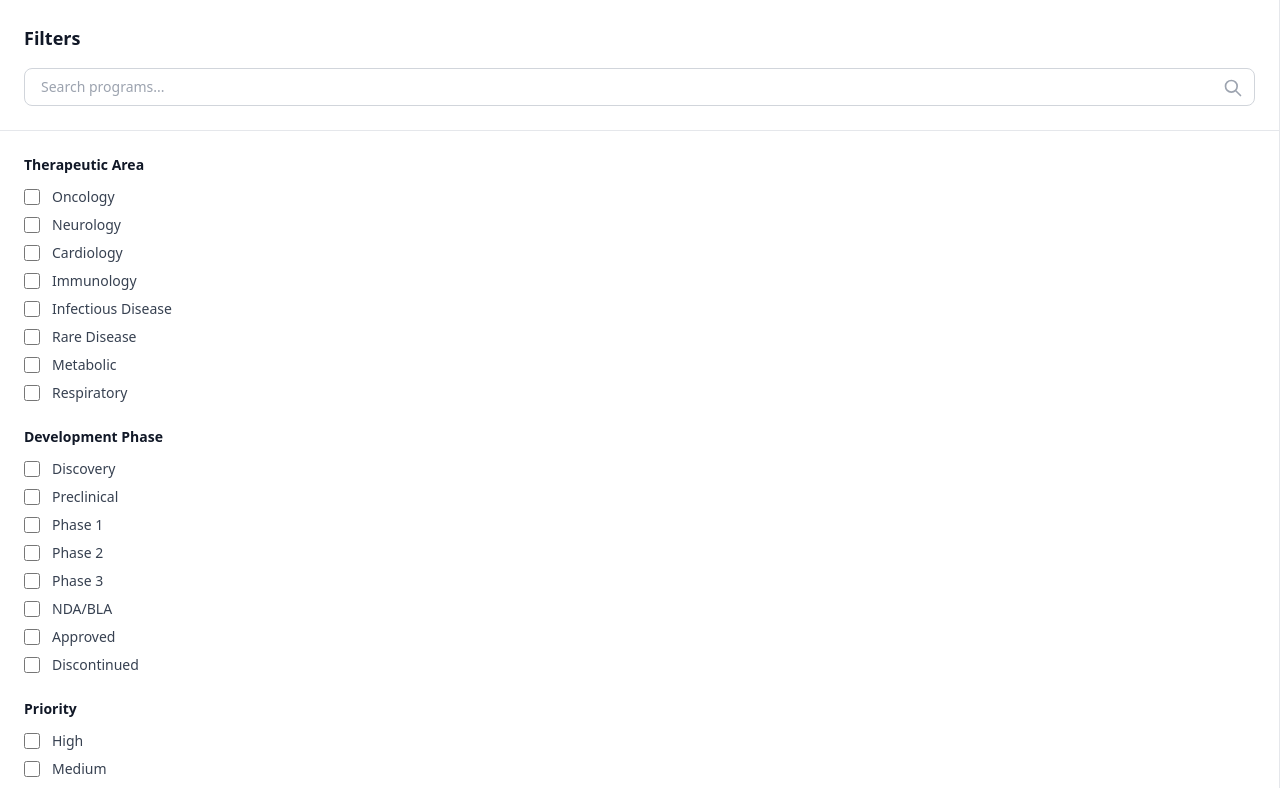
Test: FilterPanel toggle branches › toggle on and off therapeutic area and phase
The image size is (1280, 788).
Note: toggle on
Step 1. Click the text "Oncology" → (83, 197), box [52,187,115,207]
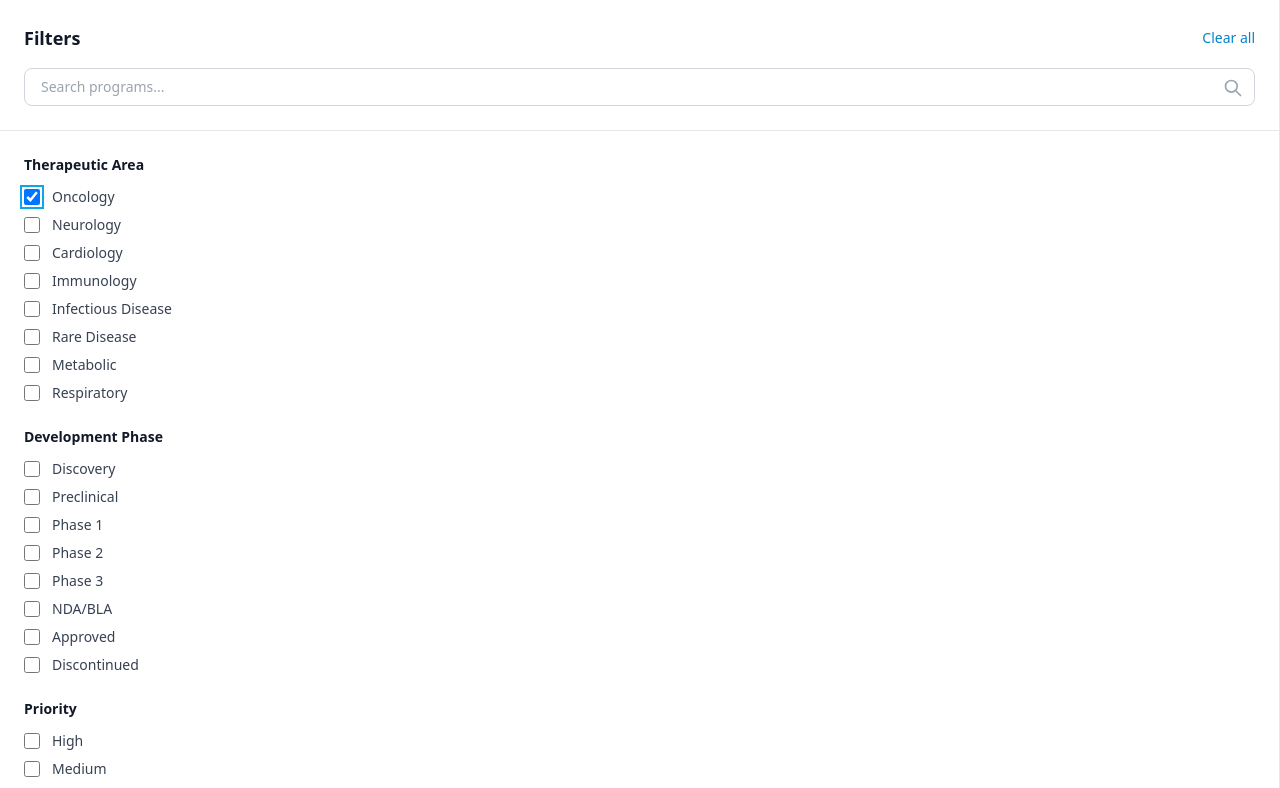
Note: toggle off
Step 2. Click the text "Oncology" → (83, 197), box [52,187,115,207]
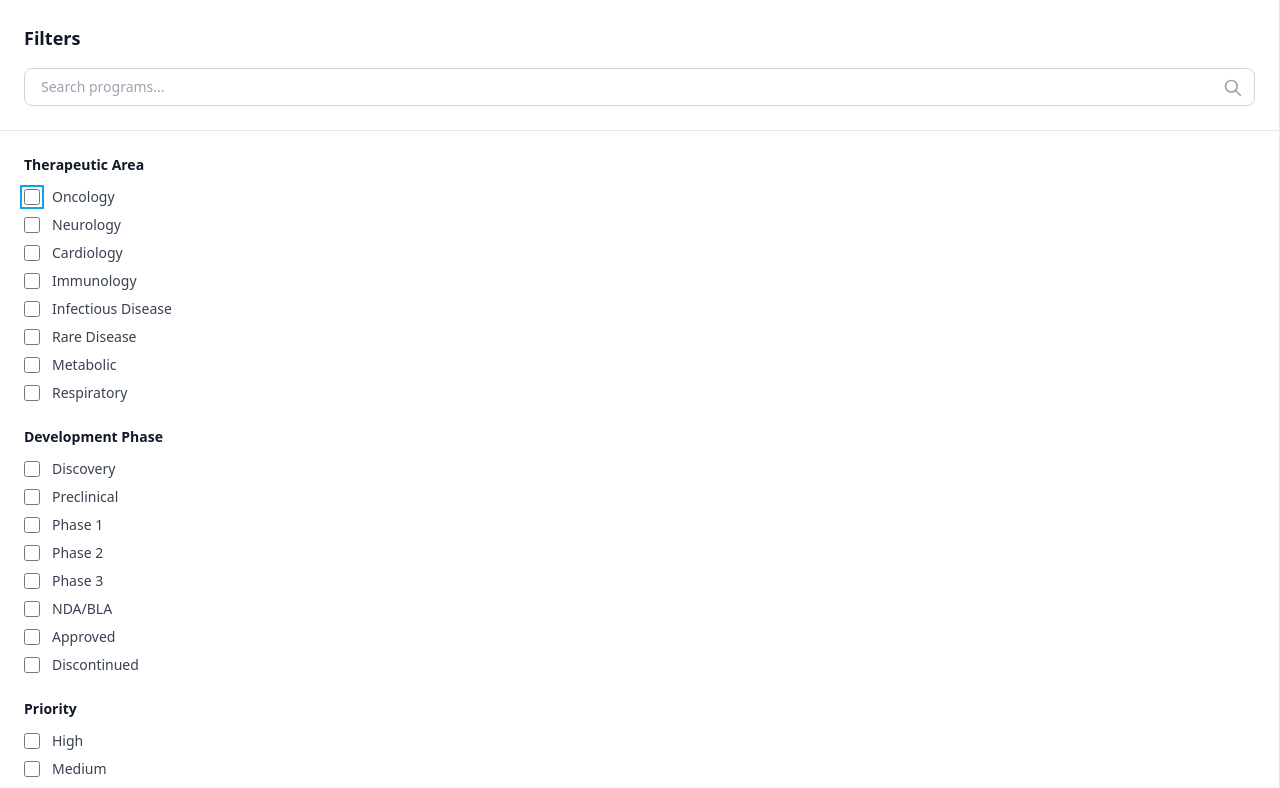
Note: toggle on
Step 3. Click the text "Phase 1" → (78, 525), box [52,515,103,535]
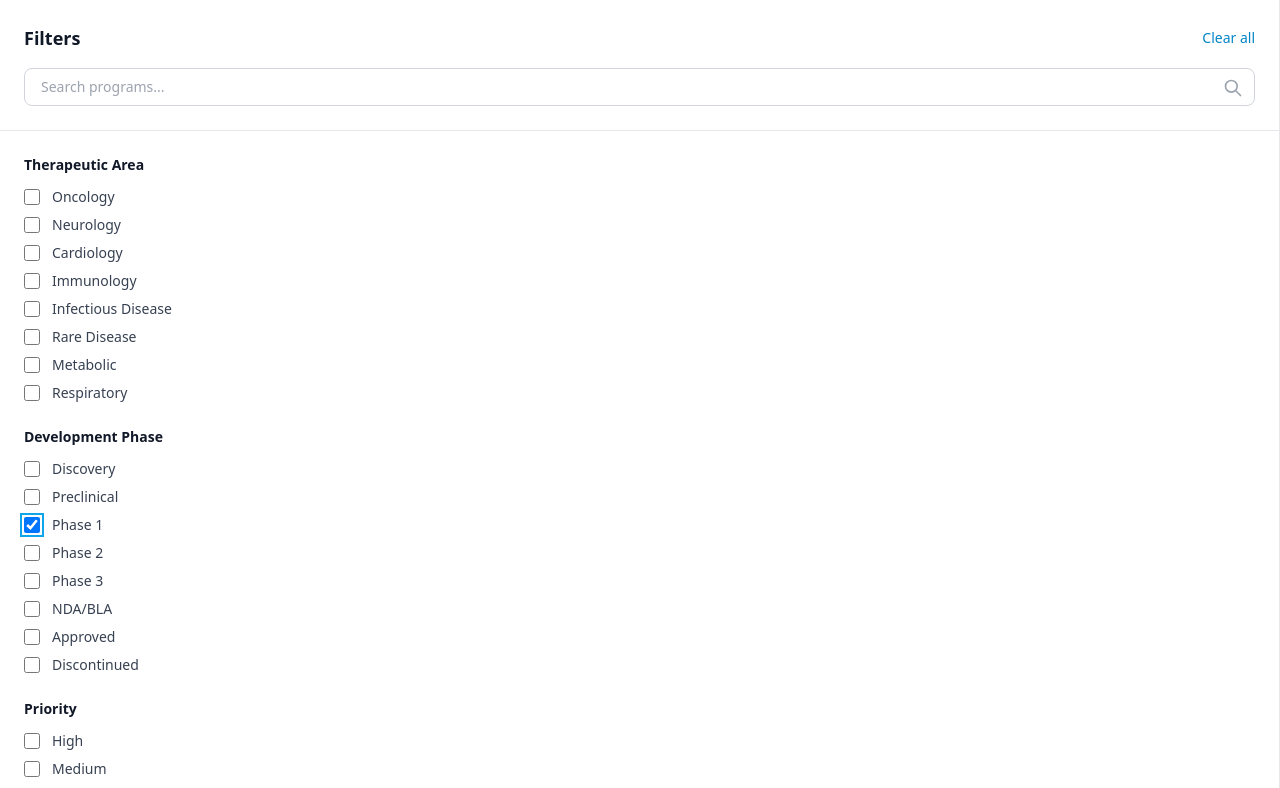
Note: toggle off
Step 4. Click the text "Phase 1" → (78, 525), box [52,515,103,535]
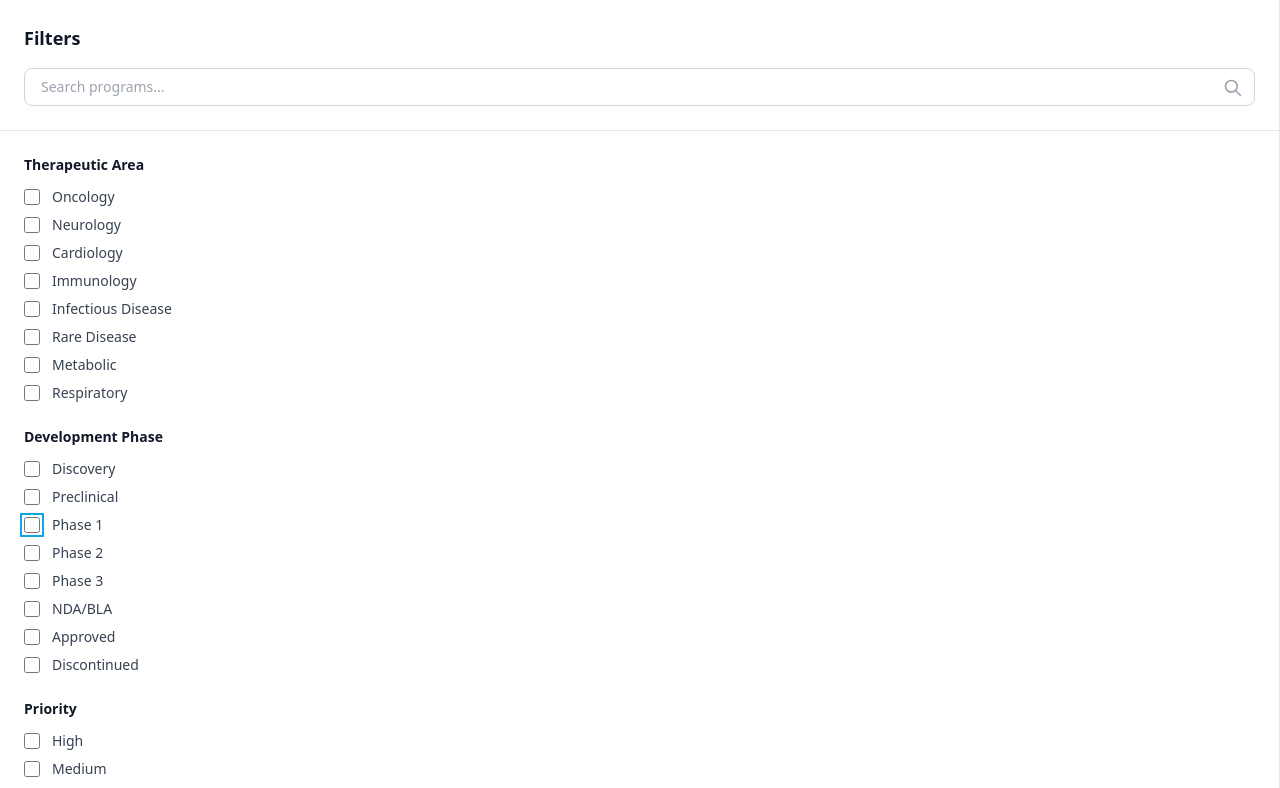
Now the button "Clear all" is gone
